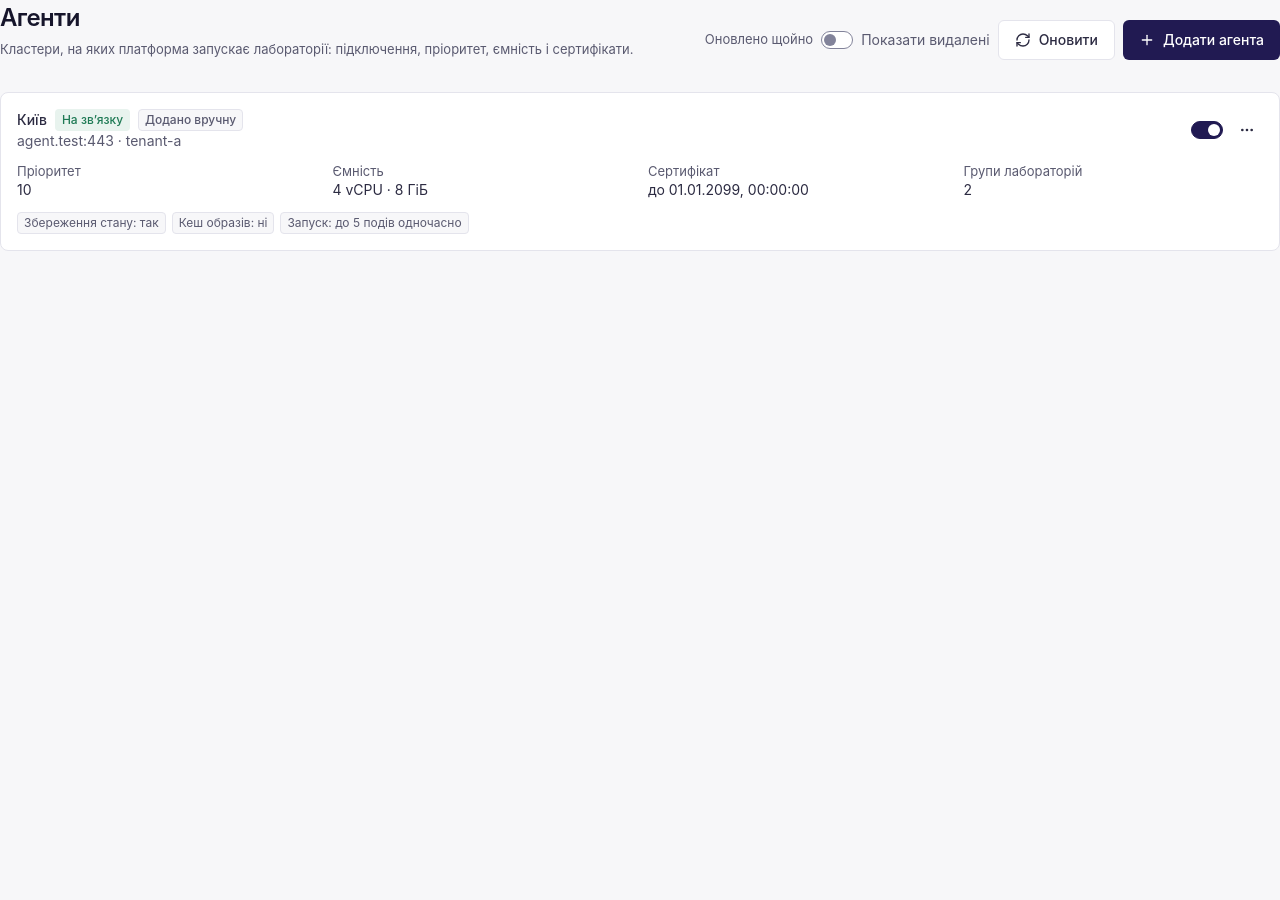
agents page › blocks the delete while lab groups run
Expected: the list item with test id "agent-a1" is shown, [1,92,1279,250]
Press the mouse on the button named "Дії з агентом «Київ»" at [1247, 130], box [1231,114,1263,146]
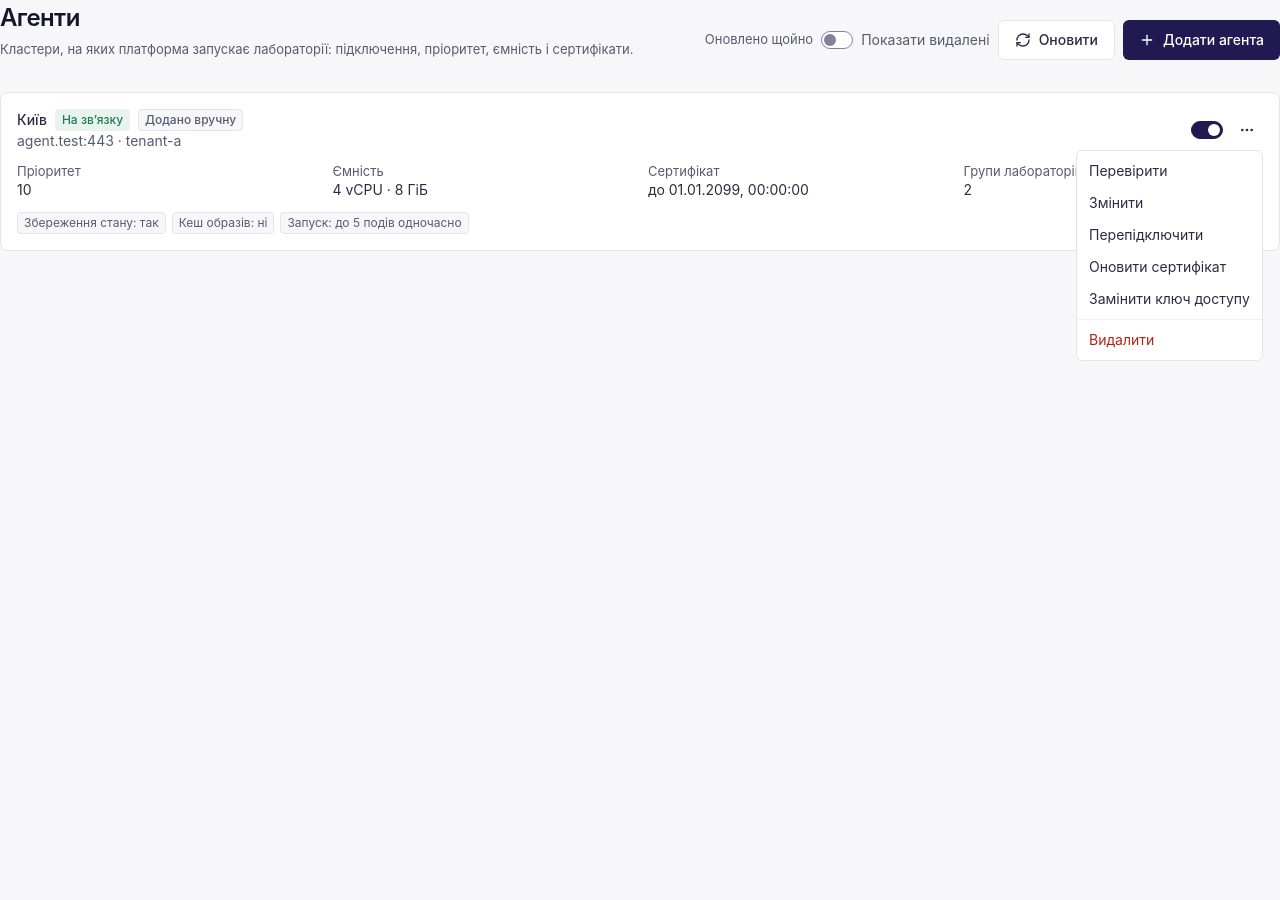
Click the menu item "Видалити" at [1122, 340], box [1089,331,1154,348]
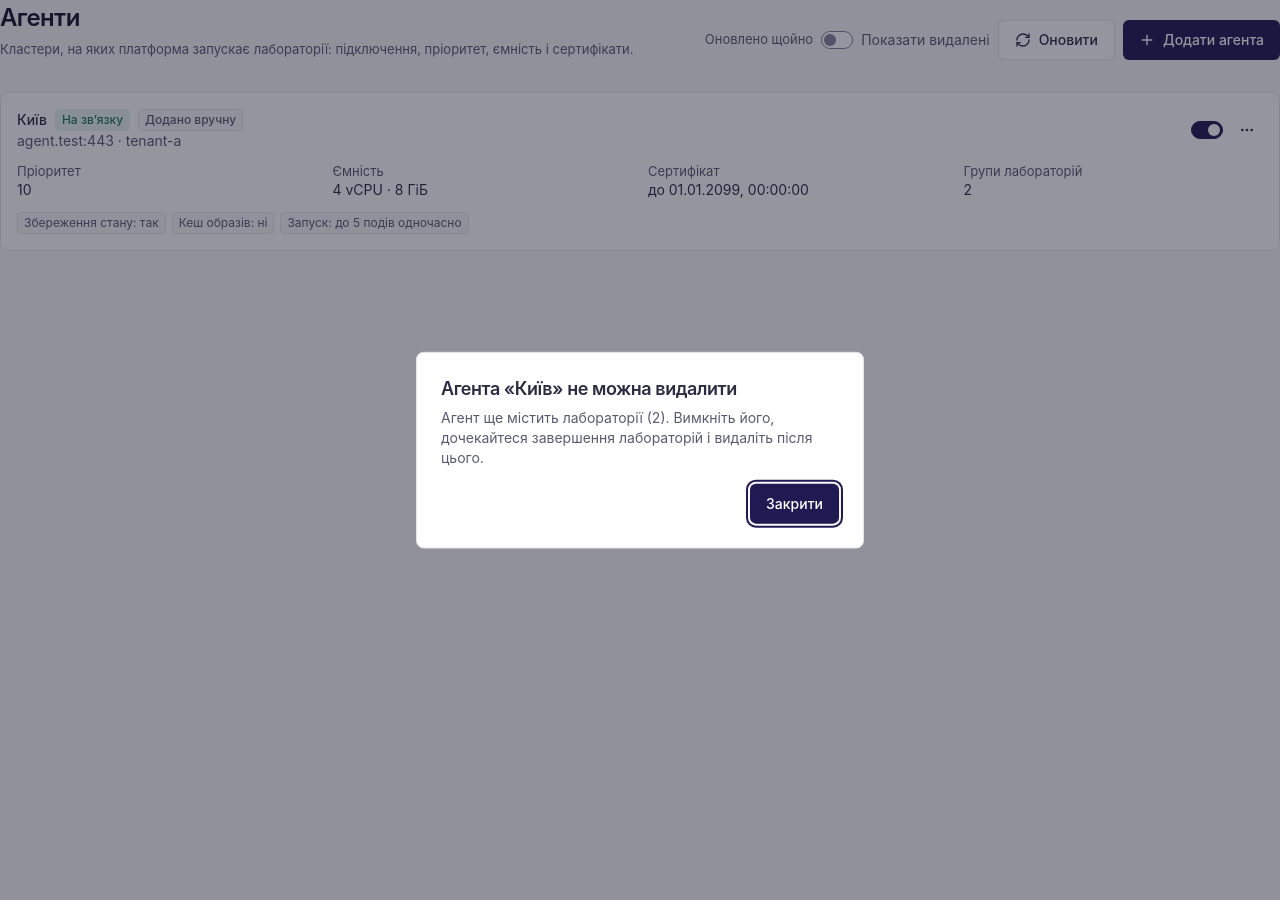
Now the heading "Агента «Київ» не можна видалити" is shown, box [441,378,737,399]
